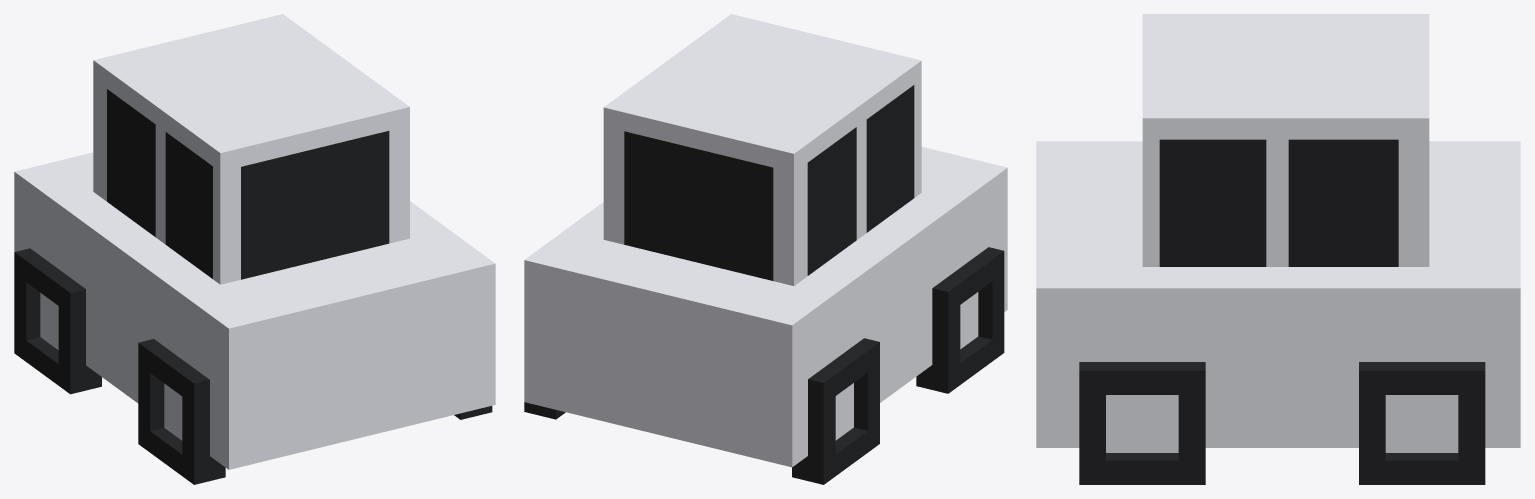
File: MiniCar.glb
The picture shows the model from 3 angles, left to right: view 1: azimuth 30°, elevation 25°; view 2: azimuth 150°, elevation 25°; view 3: azimuth 270°, elevation 25°; orthographic projection. The views are drawn at different scales.
Visible parts, largest first — view 1: Body, Extras; view 2: Body, Extras; view 3: Body, Extras.
Boxes of the visible parts, x1=… form: Body: x1=14, y1=14, x2=495, y2=469; Extras: x1=14, y1=89, x2=492, y2=484; Body: x1=524, y1=14, x2=1007, y2=467; Extras: x1=524, y1=85, x2=1004, y2=484; Body: x1=1036, y1=14, x2=1520, y2=447; Extras: x1=1079, y1=139, x2=1485, y2=484.
Bounding box in the file's own units: 1.68 × 1.6 × 2.09.
1 material, 1 textured.
